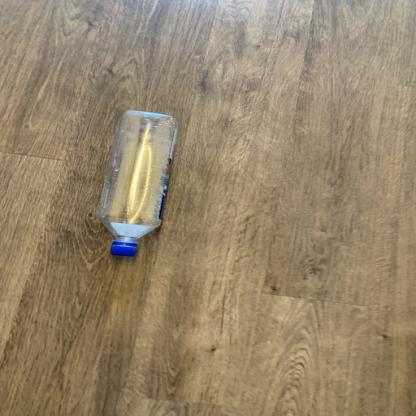trash: (98, 110, 180, 256)
